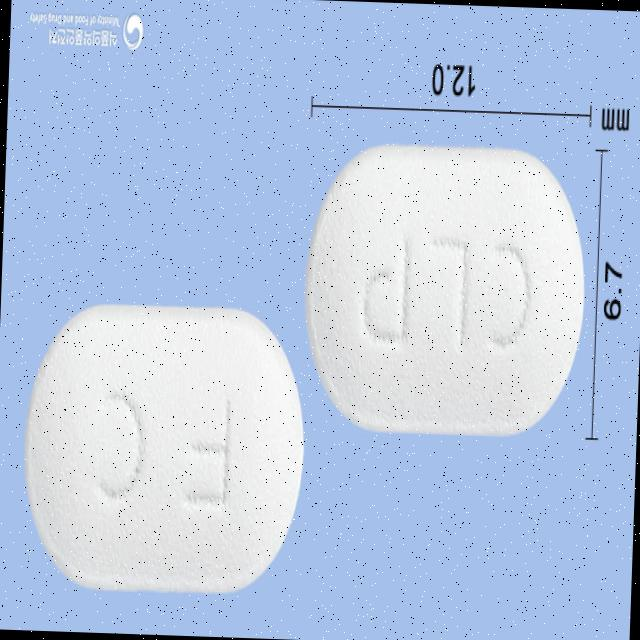Famcivir: (299, 142, 589, 440), (17, 301, 309, 596)
